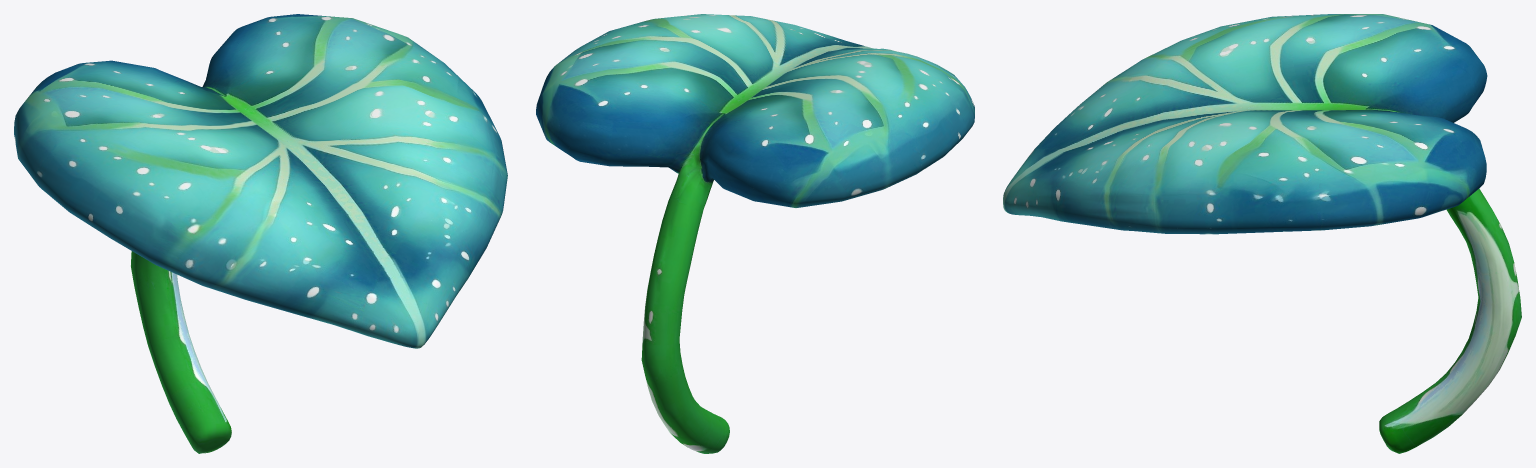
The model's file is pothos_mint_dot_34_v1.glb.
The picture shows the model from 3 angles, left to right: view 1: azimuth 30°, elevation 25°; view 2: azimuth 150°, elevation 25°; view 3: azimuth 270°, elevation 25°; orthographic projection. The views are drawn at different scales.
Bounding box in the file's own units: 1.71 × 1.57 × 2.
1 material, 1 textured.
